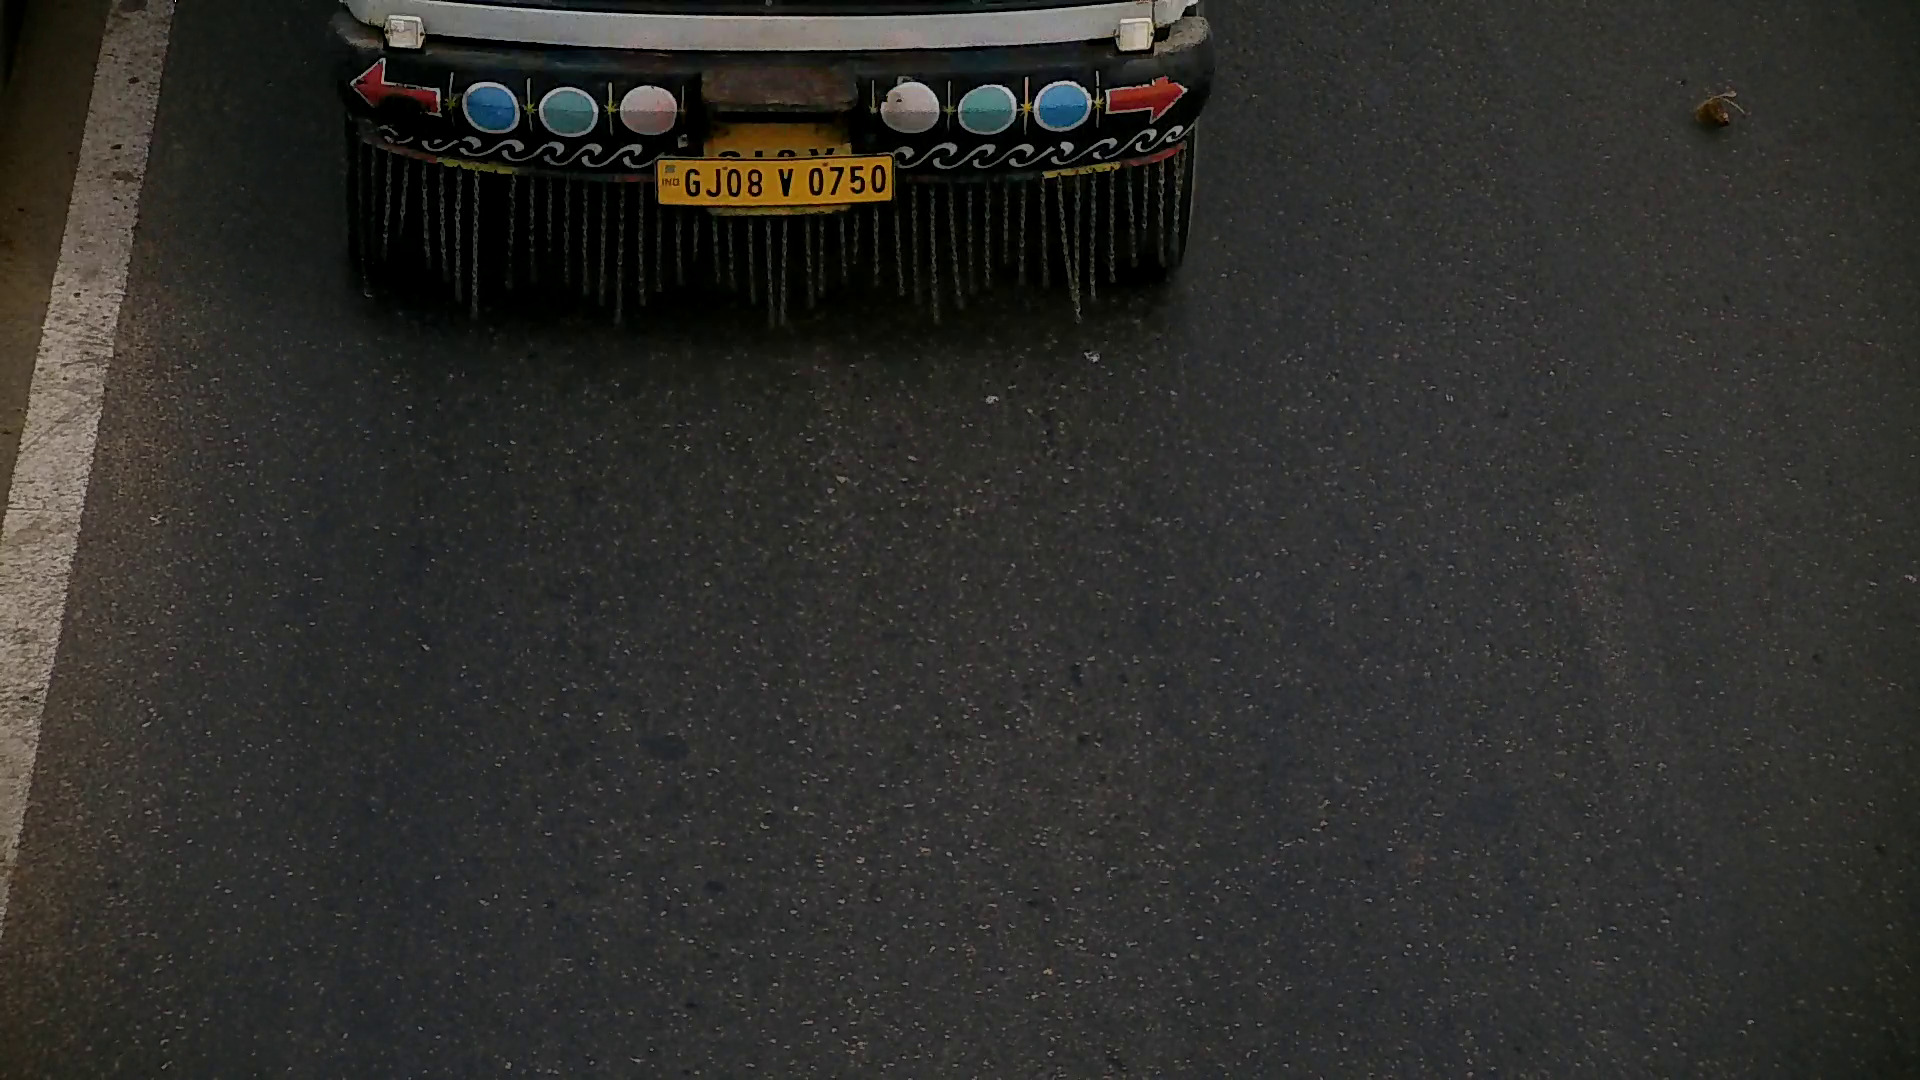numberplate: (651, 153, 895, 213)
